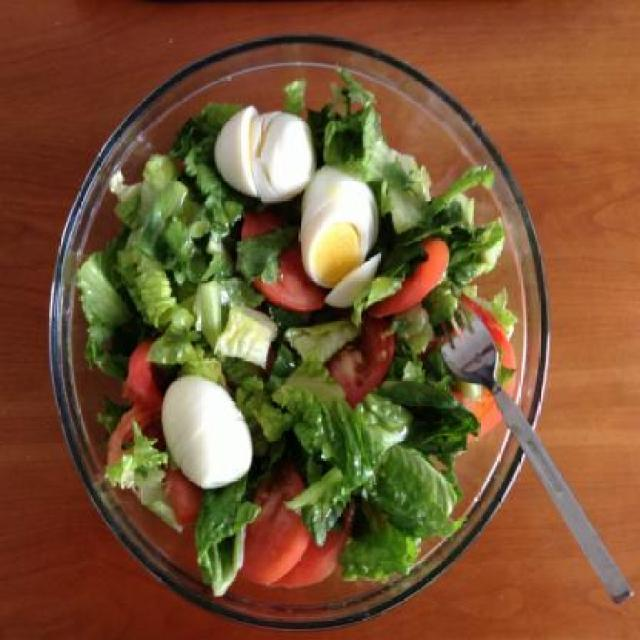Salad: (68, 56, 520, 602)
